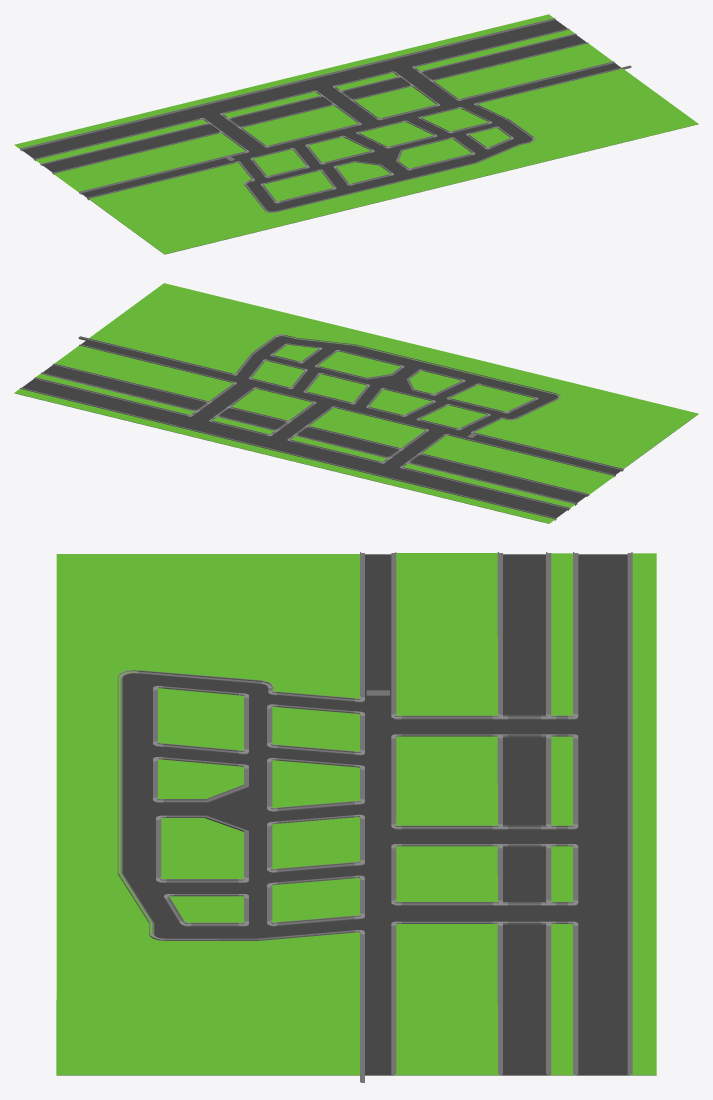
Rendered from map_01.fbx.
The picture shows the model from 3 angles, top to bottom: view 1: azimuth 30°, elevation 25°; view 2: azimuth 150°, elevation 25°; view 3: azimuth 270°, elevation 25°; orthographic projection. The views are drawn at different scales.
Visible parts, largest first — view 1: grass_base, tar_road_base, waterway_base, pCylinder235, sand_base_3, sand_base_1, sand_base_2, pCylinder197, pCylinder233, pCylinder202; view 2: grass_base, tar_road_base, waterway_base, sand_base_3, pCylinder235, sand_base_1, pCylinder17, sand_base_2, pCylinder205, pCylinder196, pCylinder114, pCylinder225 (+3 smaller); view 3: grass_base, tar_road_base, waterway_base, sand_base_3, sand_base_1, pCylinder235, sand_base_2, pCylinder17, pCylinder202, pCylinder197, pCylinder205, pCylinder225 (+4 smaller).
Boxes of the visible parts, left/top/right/bottom form: grass_base: left=14, top=14, right=698, bottom=254; tar_road_base: left=22, top=20, right=697, bottom=254; waterway_base: left=42, top=35, right=586, bottom=172; pCylinder235: left=20, top=18, right=555, bottom=151; sand_base_3: left=398, top=138, right=471, bottom=168; sand_base_1: left=422, top=108, right=488, bottom=131; sand_base_2: left=469, top=127, right=510, bottom=147; pCylinder197: left=79, top=151, right=245, bottom=194; pCylinder233: left=461, top=61, right=614, bottom=100; pCylinder202: left=40, top=123, right=206, bottom=165; grass_base: left=14, top=283, right=698, bottom=523; tar_road_base: left=15, top=336, right=698, bottom=523; waterway_base: left=43, top=365, right=586, bottom=502; sand_base_3: left=318, top=351, right=400, bottom=377; pCylinder235: left=20, top=387, right=556, bottom=520; sand_base_1: left=252, top=360, right=304, bottom=387; pCylinder17: left=355, top=344, right=556, bottom=394; sand_base_2: left=273, top=345, right=318, bottom=361; pCylinder205: left=404, top=467, right=570, bottom=510; pCylinder196: left=422, top=453, right=589, bottom=496; pCylinder114: left=78, top=336, right=232, bottom=374; pCylinder225: left=33, top=377, right=187, bottom=416; grass_base: left=56, top=553, right=656, bottom=1075; tar_road_base: left=57, top=554, right=656, bottom=1075; waterway_base: left=501, top=554, right=547, bottom=1075; sand_base_3: left=161, top=818, right=243, bottom=878; sand_base_1: left=272, top=878, right=359, bottom=922; pCylinder235: left=627, top=552, right=632, bottom=1074; sand_base_2: left=169, top=896, right=243, bottom=922; pCylinder17: left=117, top=676, right=122, bottom=873; pCylinder202: left=546, top=552, right=551, bottom=714; pCylinder197: left=391, top=552, right=396, bottom=714; pCylinder205: left=573, top=552, right=578, bottom=714; pCylinder225: left=573, top=925, right=578, bottom=1074.
Size of the model in its own units: 1383 by 7.28 by 661.
